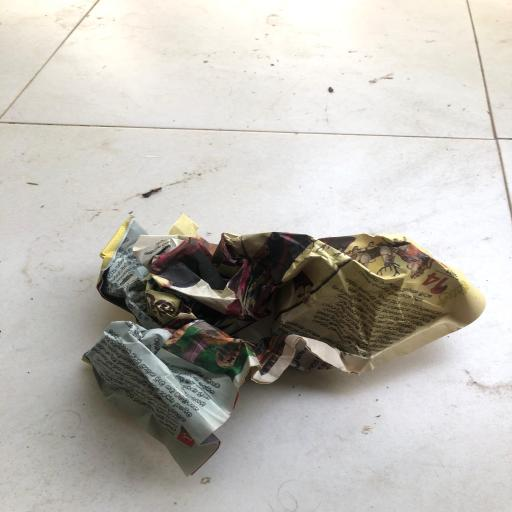waste: (76, 203, 496, 474)
